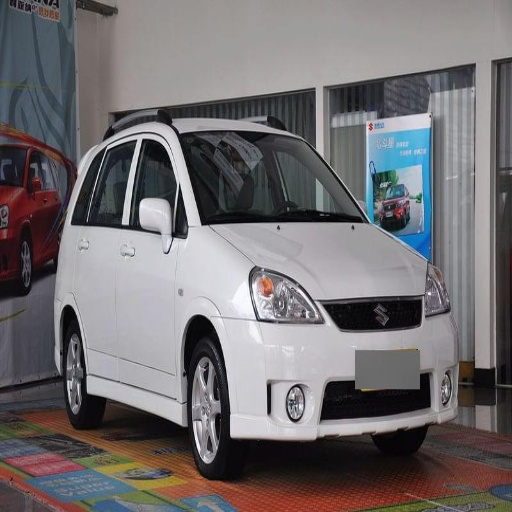front_bumper: (223, 295, 460, 441)
front_right_door: (120, 132, 182, 400)
front_right_light: (248, 265, 323, 323)
